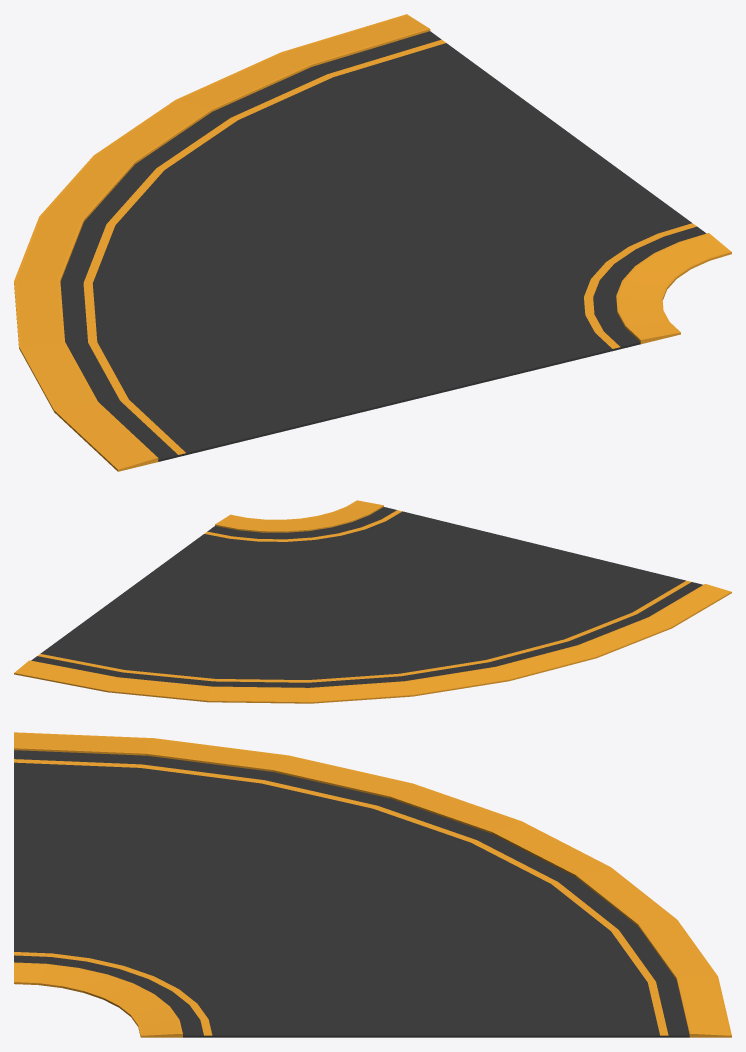
The model's file is SM_Racetrack_RunOff_Turn_20x20m.fbx.
The picture shows the model from 3 angles, top to bottom: view 1: azimuth 30°, elevation 25°; view 2: azimuth 150°, elevation 25°; view 3: azimuth 270°, elevation 25°; orthographic projection. The views are drawn at different scales.
Visible parts, largest first — view 1: SM_Racetrack_RunOff_Turn_20x20m; view 2: SM_Racetrack_RunOff_Turn_20x20m; view 3: SM_Racetrack_RunOff_Turn_20x20m.
Part boxes in pixels (x1=…): SM_Racetrack_RunOff_Turn_20x20m: x1=14, y1=14, x2=731, y2=471; SM_Racetrack_RunOff_Turn_20x20m: x1=14, y1=500, x2=731, y2=703; SM_Racetrack_RunOff_Turn_20x20m: x1=14, y1=732, x2=731, y2=1037.
Size of the model in its own units: 17 by 0.1 by 17.
